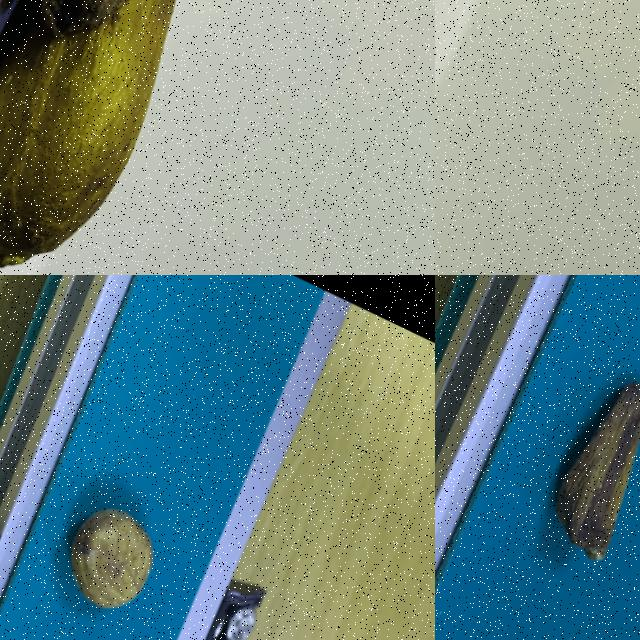Agglomerated_cocoabeans: (0, 0, 318, 274)
Fine_cocoabeans: (0, 388, 231, 639)
Flat_cocoabeans: (480, 332, 639, 616)
